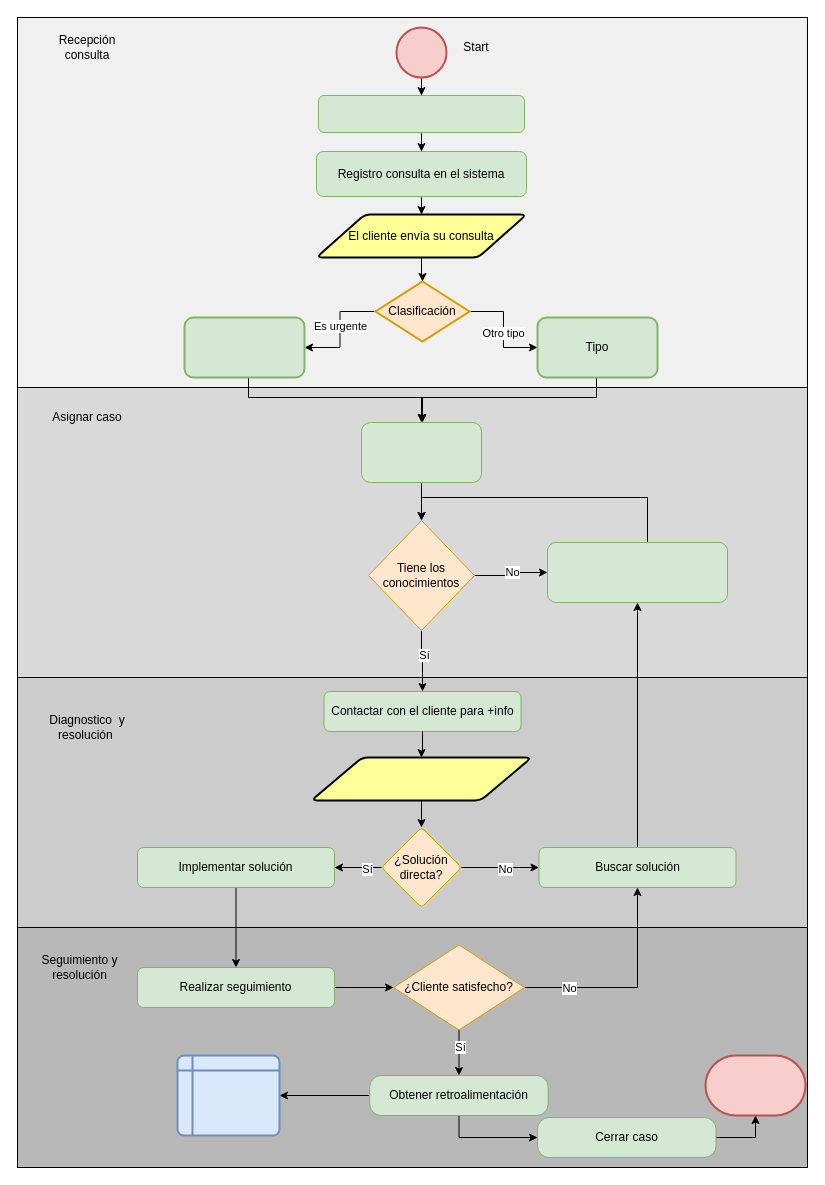
Image size: 825x1185. Some labels were removed from this diagram. Each missing label, with the centre of its shape:
"Almacenar Feedback" goes at pixel 228 1095.
"Asignción del consultor" goes at pixel 421 452.
"Cliente da +info al consultor" goes at pixel 421 778.
"Fin" goes at pixel 755 1085.
"Pedir ayuda a compañero / informarse del caso del cliente" goes at pixel 637 572.
"Primer contacto con cliente" goes at pixel 421 113.
"Urgencia" goes at pixel 244 347.
